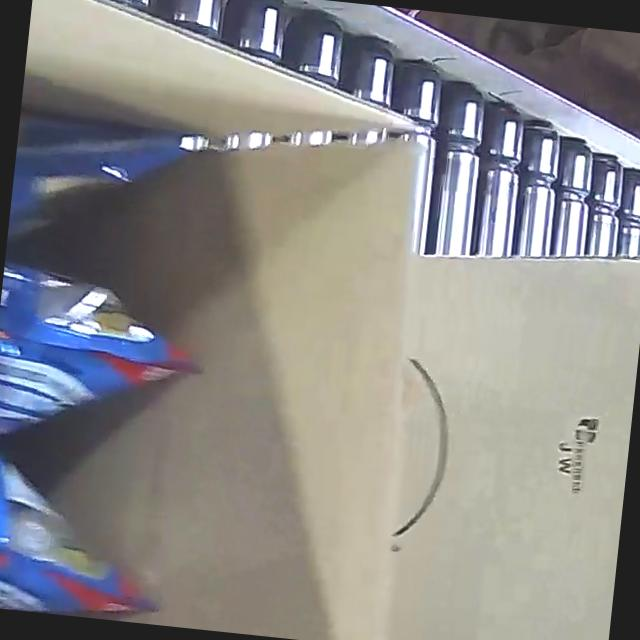paprika: (0, 71, 213, 624)
